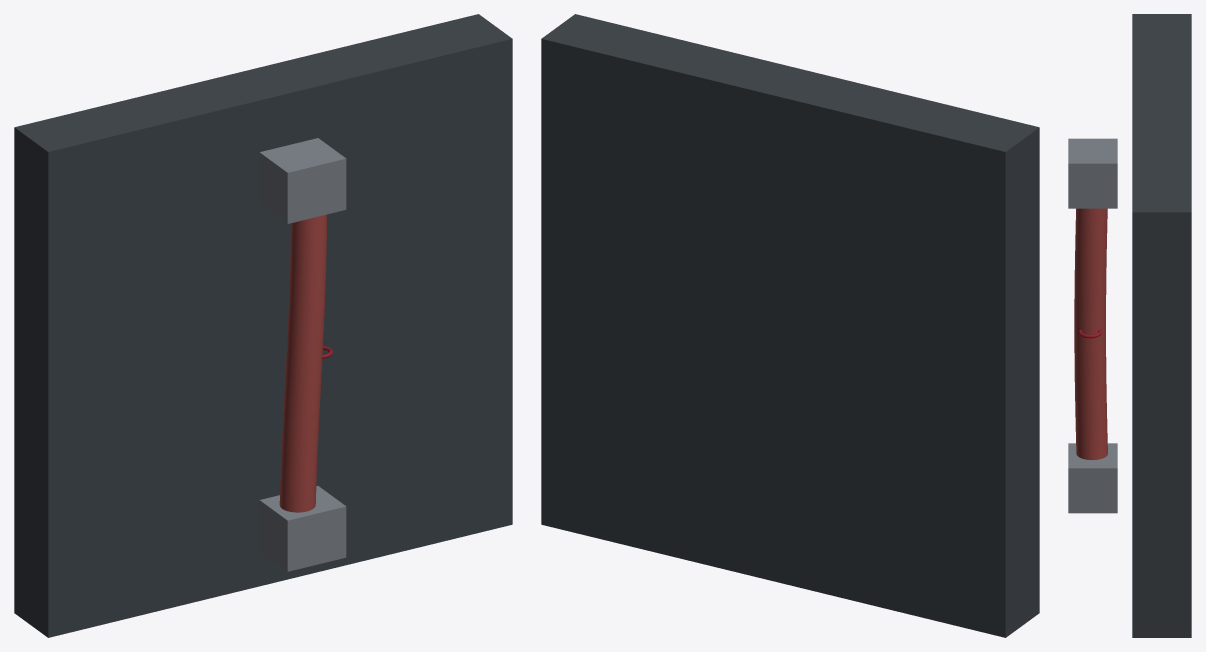
Rendered from dranmar_bleeding_vessel.glb.
The picture shows the model from 3 angles, left to right: view 1: azimuth 30°, elevation 25°; view 2: azimuth 150°, elevation 25°; view 3: azimuth 270°, elevation 25°; orthographic projection. The views are drawn at different scales.
Parts seen in each view (by area): view 1: FixtureBase, Vessel, AnchorMax, AnchorMin; view 2: FixtureBase; view 3: FixtureBase, Vessel, AnchorMax, AnchorMin.
Boxes of the visible parts, x1=… form: FixtureBase: x1=14, y1=14, x2=512, y2=637; Vessel: x1=279, y1=214, x2=326, y2=512; AnchorMax: x1=259, y1=138, x2=346, y2=223; AnchorMin: x1=259, y1=486, x2=346, y2=571; FixtureBase: x1=541, y1=14, x2=1039, y2=637; FixtureBase: x1=1132, y1=14, x2=1191, y2=637; Vessel: x1=1074, y1=208, x2=1107, y2=460; AnchorMax: x1=1068, y1=138, x2=1117, y2=208; AnchorMin: x1=1068, y1=443, x2=1117, y2=513.
Size of the model in its own units: 0.095 by 0.095 by 0.025.
